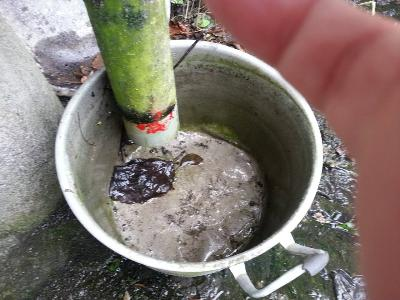bucket: (51, 36, 331, 297)
